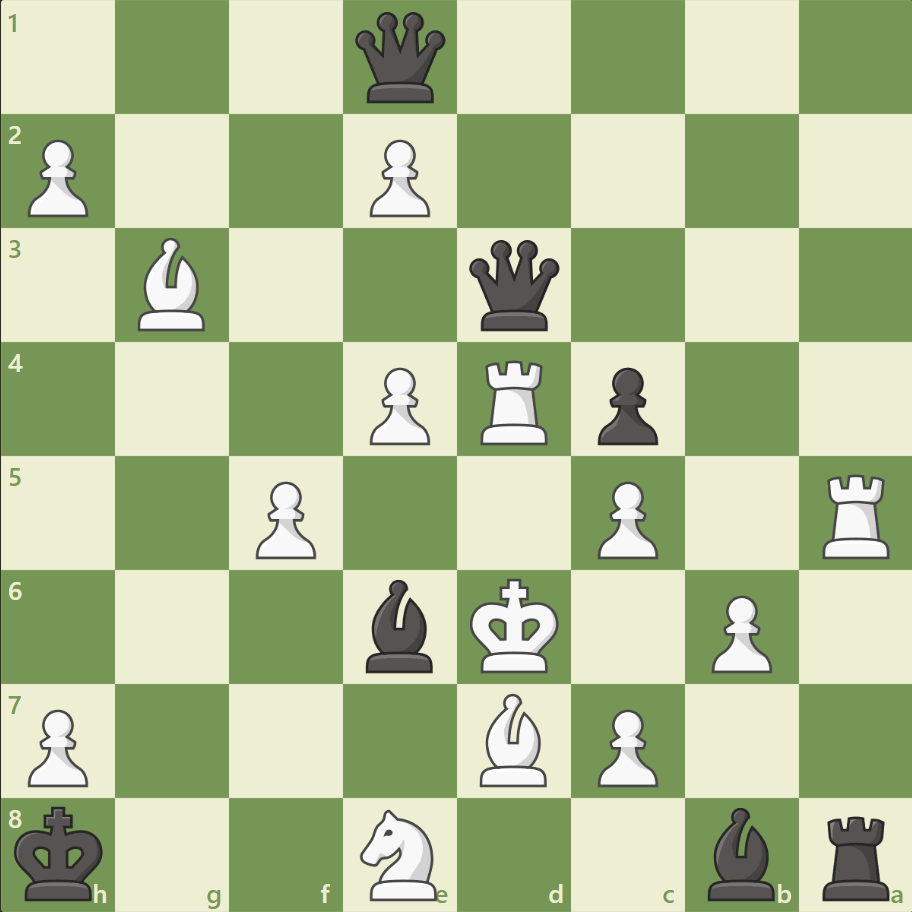B: (471, 687, 555, 790), (131, 233, 215, 336)
K: (465, 571, 565, 679)
N: (351, 802, 449, 904)
P: (20, 700, 95, 791), (701, 586, 776, 677), (247, 473, 322, 564), (20, 132, 95, 223), (588, 700, 662, 791), (588, 473, 662, 564), (361, 359, 435, 450), (361, 132, 435, 223)
R: (814, 466, 897, 563), (473, 352, 556, 449)
b: (698, 801, 782, 904), (358, 574, 442, 676)
k: (11, 798, 111, 906)
p: (588, 359, 662, 450)
q: (464, 236, 563, 335), (351, 9, 450, 108)
r: (814, 806, 897, 904)
